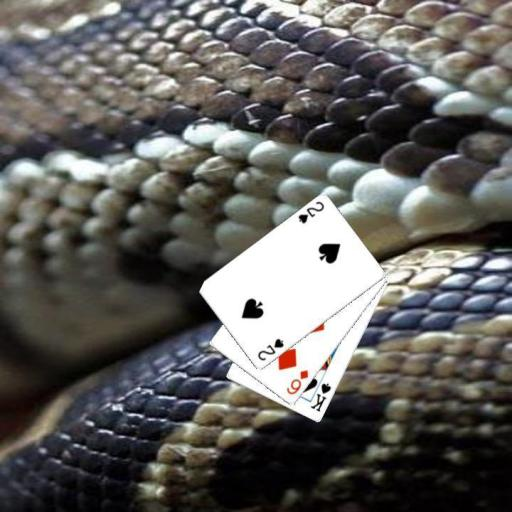card-corner: (307, 380, 333, 414), (295, 198, 326, 226), (283, 367, 310, 397), (255, 336, 285, 362)
